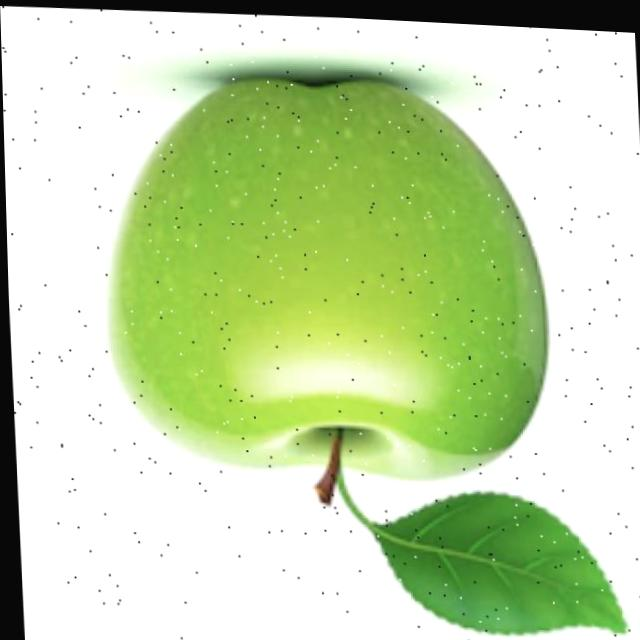Apple: (94, 59, 554, 509)
